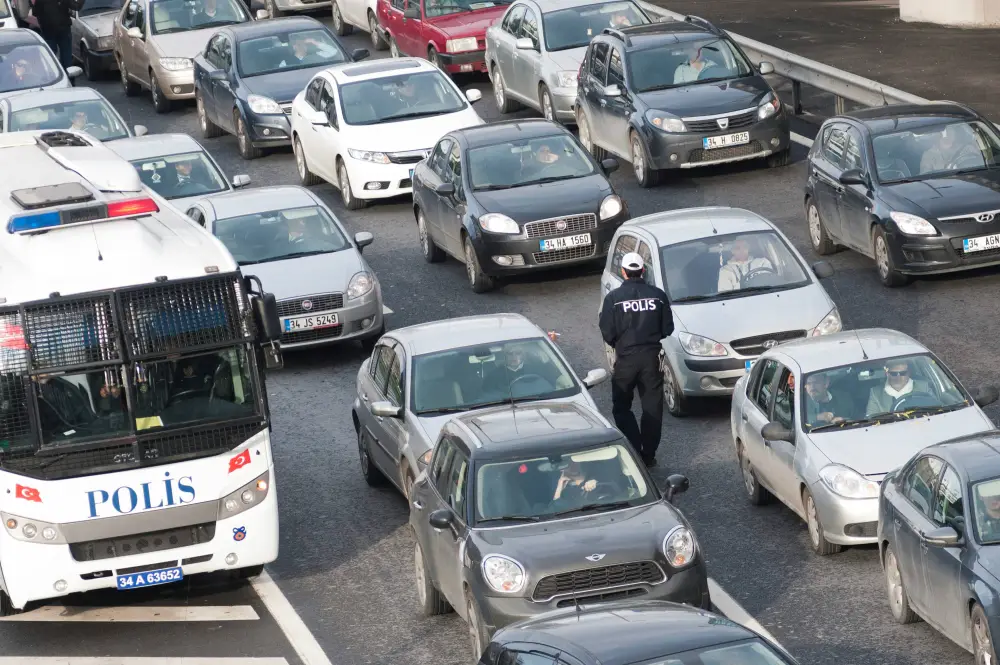Car: (0, 128, 281, 616), (410, 403, 711, 659), (732, 328, 995, 555), (598, 204, 843, 416), (352, 313, 608, 495), (413, 119, 628, 293), (575, 17, 790, 188), (803, 102, 1000, 287), (188, 186, 385, 350), (290, 57, 484, 210), (879, 431, 1000, 665), (194, 17, 368, 159), (486, 0, 658, 126), (478, 601, 798, 665), (114, 0, 252, 113), (105, 134, 250, 211), (376, 0, 510, 76), (0, 87, 147, 143), (0, 27, 84, 98), (72, 0, 124, 80), (331, 0, 388, 51), (252, 0, 331, 18), (0, 0, 19, 28)
